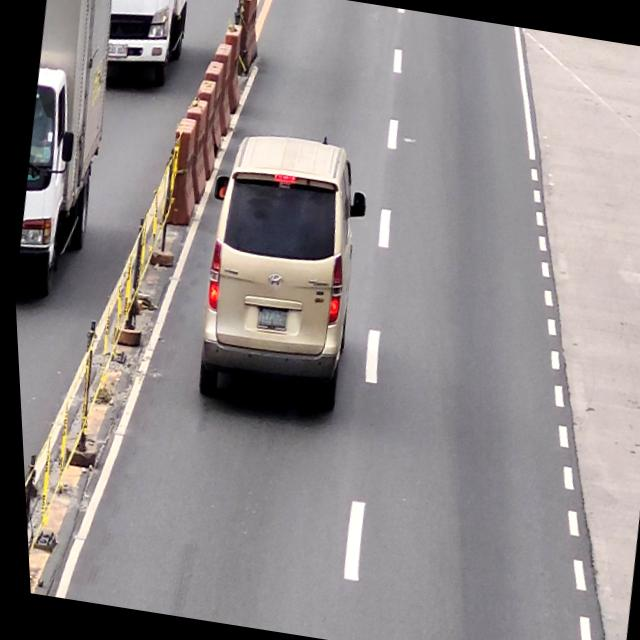Car: (178, 128, 382, 420)
License-Plate: (252, 305, 286, 330)
